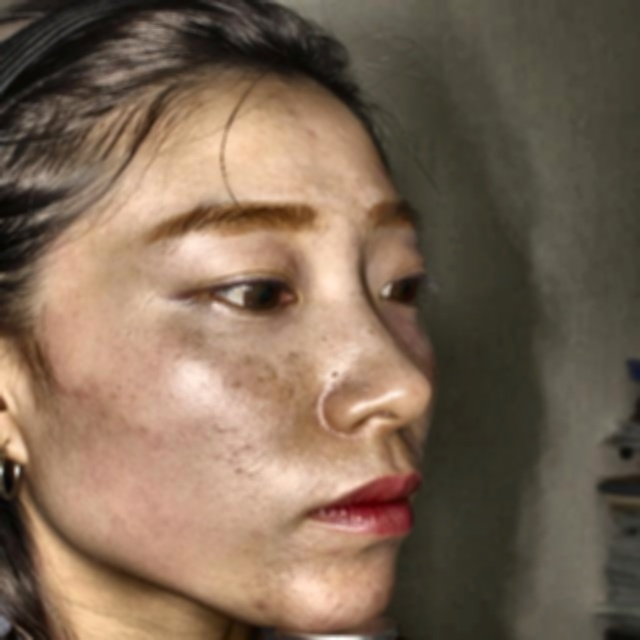comedone: (255, 598, 282, 621)
